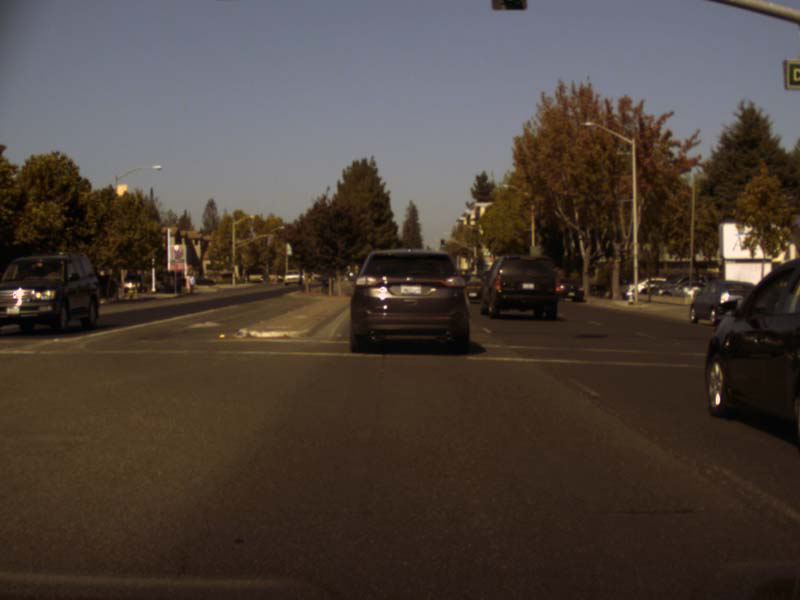Green: (441, 239, 444, 248)
